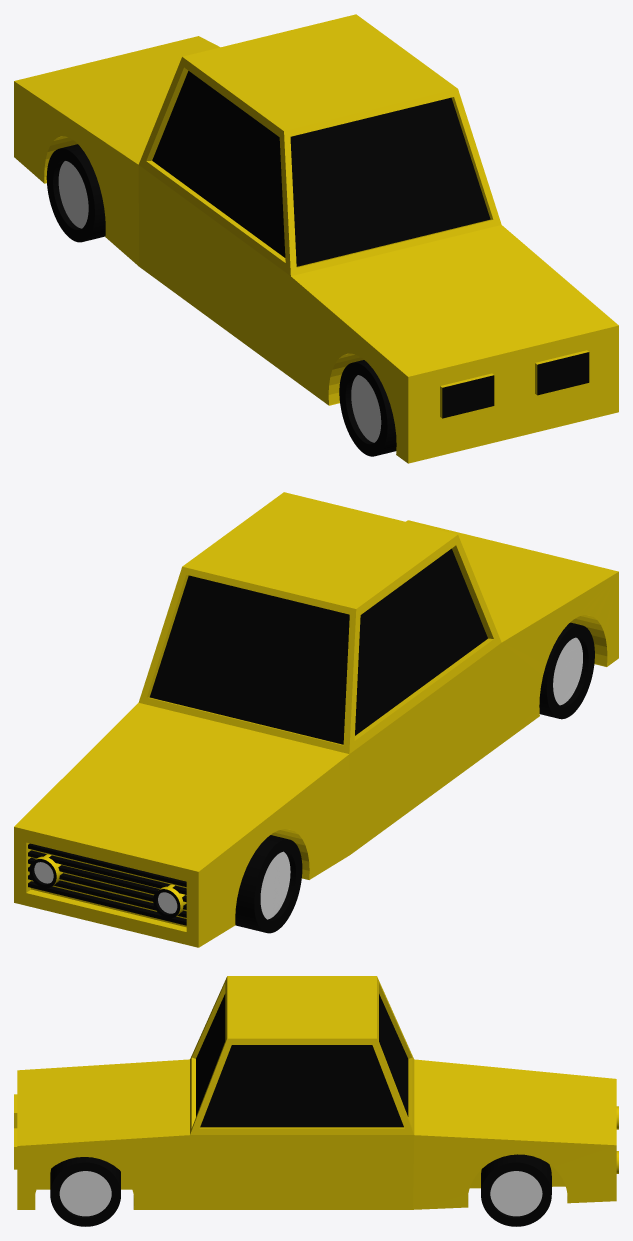
File: break_down_simple.fbx
The picture shows the model from 3 angles, top to bottom: view 1: azimuth 30°, elevation 25°; view 2: azimuth 150°, elevation 25°; view 3: azimuth 270°, elevation 25°; orthographic projection. The views are drawn at different scales.
Visible parts, largest first — view 1: Cube, Цилиндр.001; view 2: Cube, Цилиндр.001; view 3: Cube, Цилиндр.001.
Part boxes in pixels (left/top/right/bottom): Cube: left=14, top=14, right=618, bottom=463; Цилиндр.001: left=46, top=144, right=396, bottom=456; Cube: left=14, top=492, right=618, bottom=947; Цилиндр.001: left=235, top=622, right=594, bottom=933; Cube: left=14, top=976, right=618, bottom=1209; Цилиндр.001: left=50, top=1154, right=551, bottom=1226.
Size of the model in its own units: 200 by 224 by 675.
